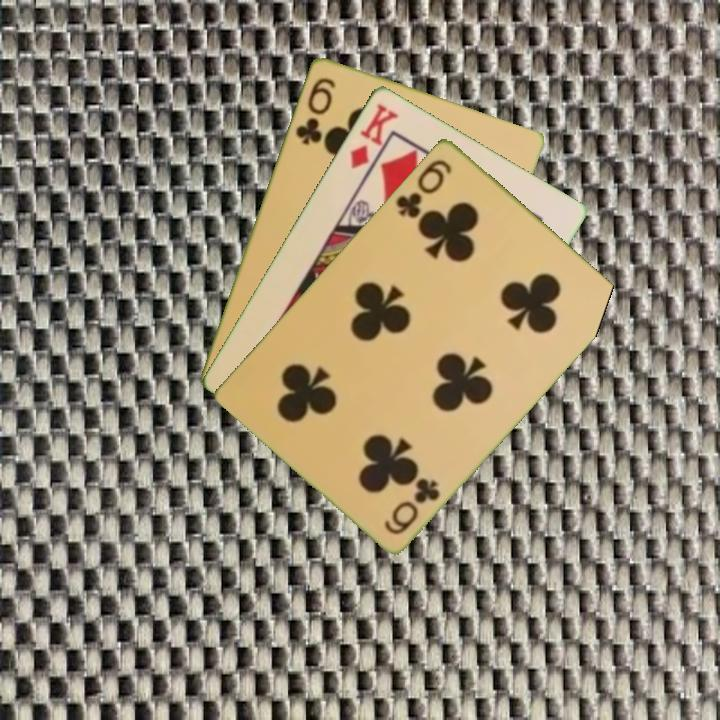6c: (392, 155, 455, 221), (380, 473, 443, 537), (291, 73, 338, 147)
Kd: (345, 99, 402, 172)
